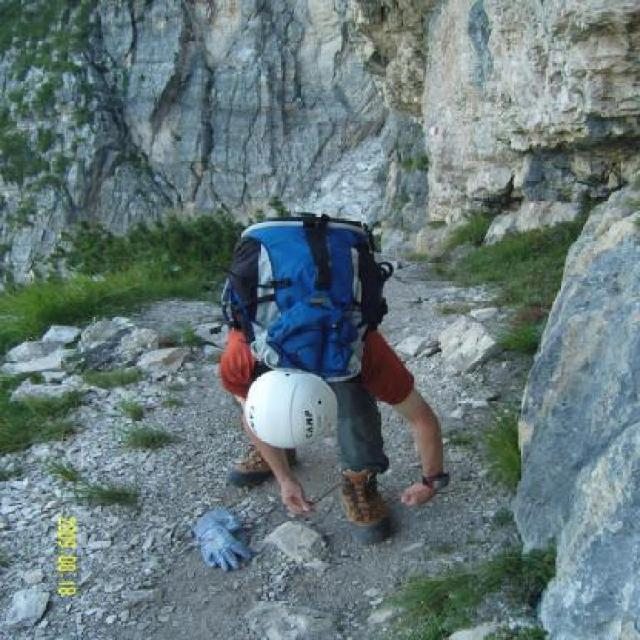backpack: (215, 211, 397, 380)
